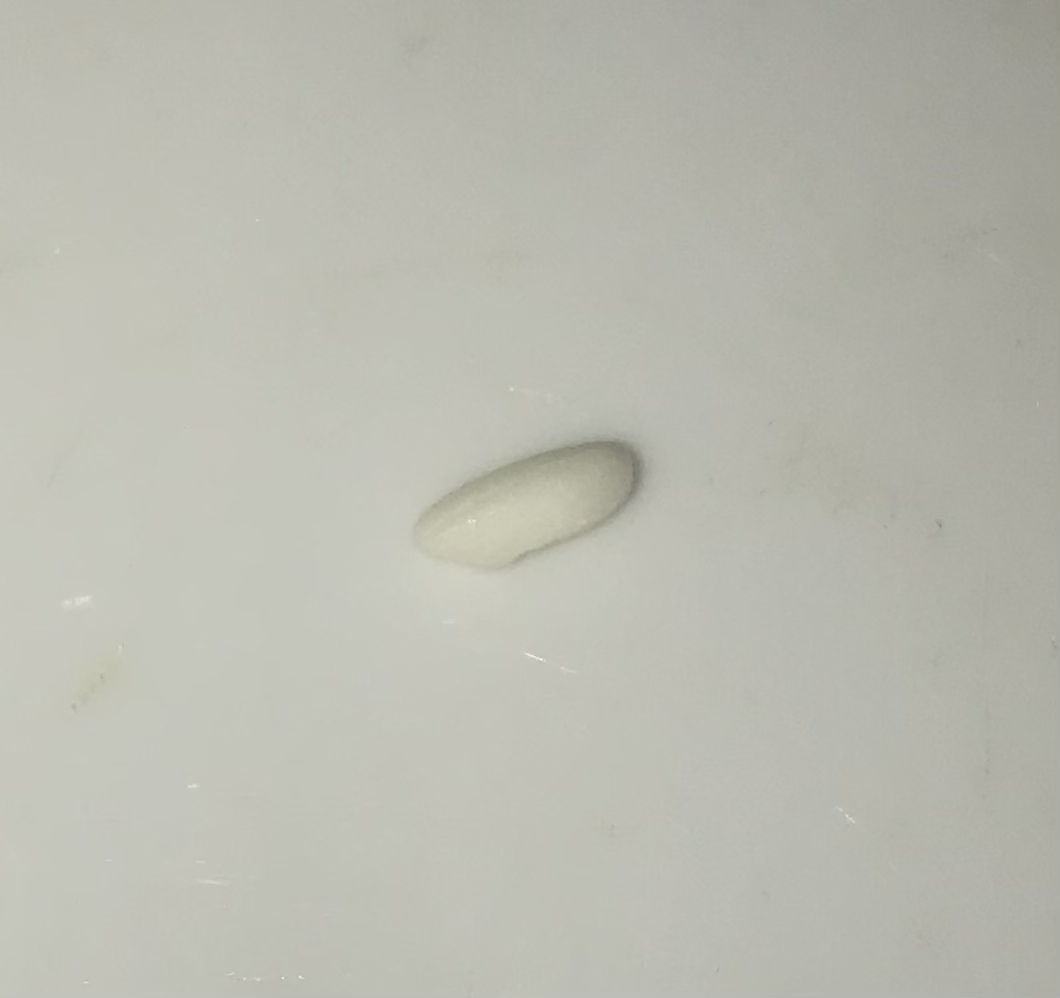Gao Nep Sap: (393, 433, 669, 583)
